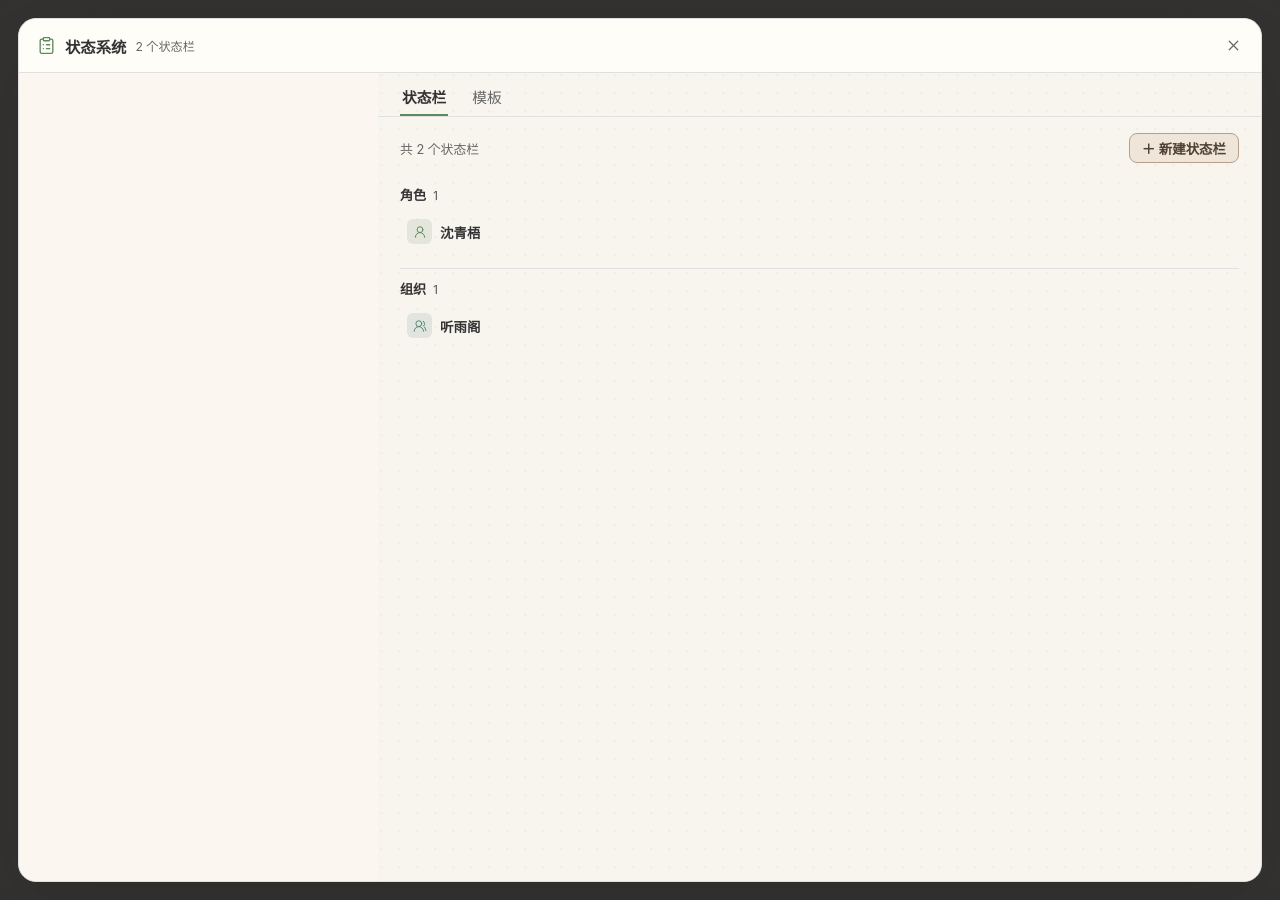
Scenario: ChatStatusSystemPanel › 模板 tab 渲染内置模板画廊：同 kind 已有模板显示已添加，其余可一键添加
Click the tab with class "ssp-tab" showing "模板".
click(487, 98)  # box [470,80,504,116]
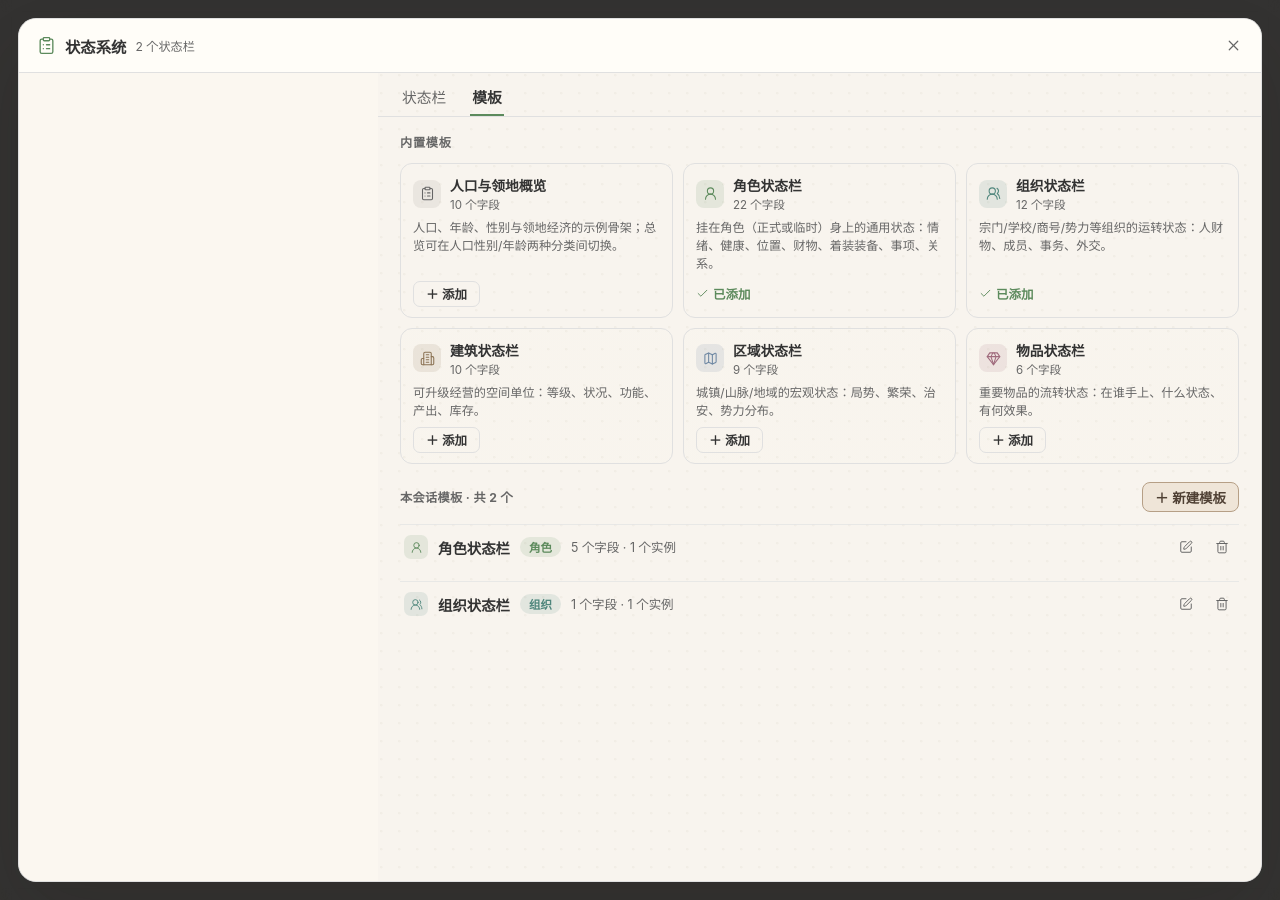
Now the number of elements with class "ssp-preset" is 6, box [400,163,673,318]; [683,163,956,318]; [966,163,1239,318]; [400,328,673,464]; [683,328,956,464]; [966,328,1239,464]
Now the number of elements with class "ssp-preset-done" is 2, box [696,287,750,302]; [979,287,1033,302]
Now the button with aria-label "添加内置模板 建筑状态栏" is shown, box [413,427,480,453]
